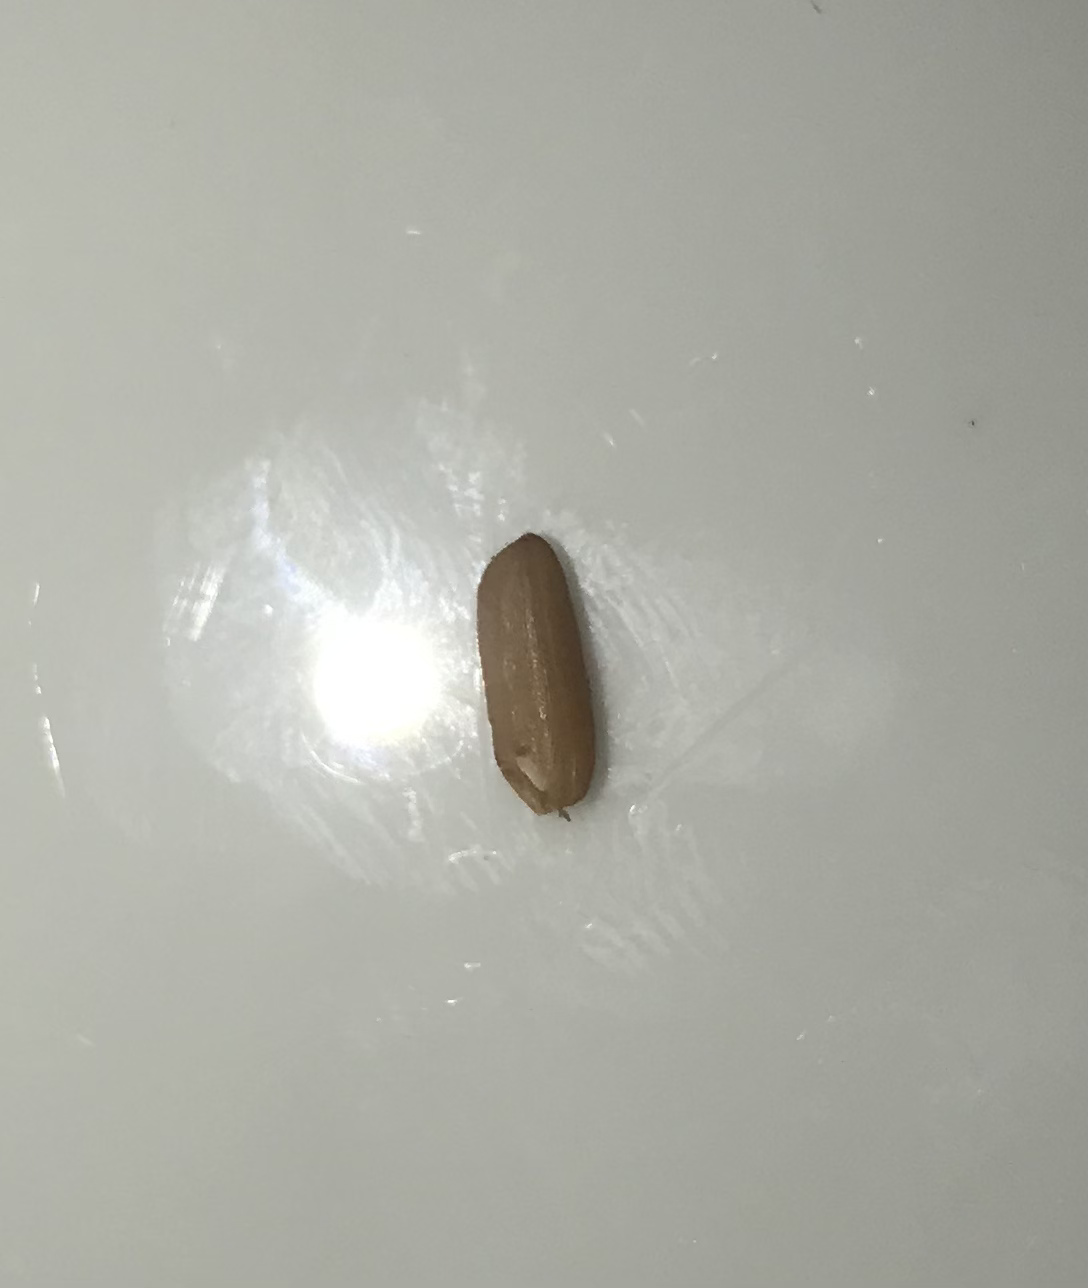Gao Lut Dien Bien: (445, 525, 631, 831)
